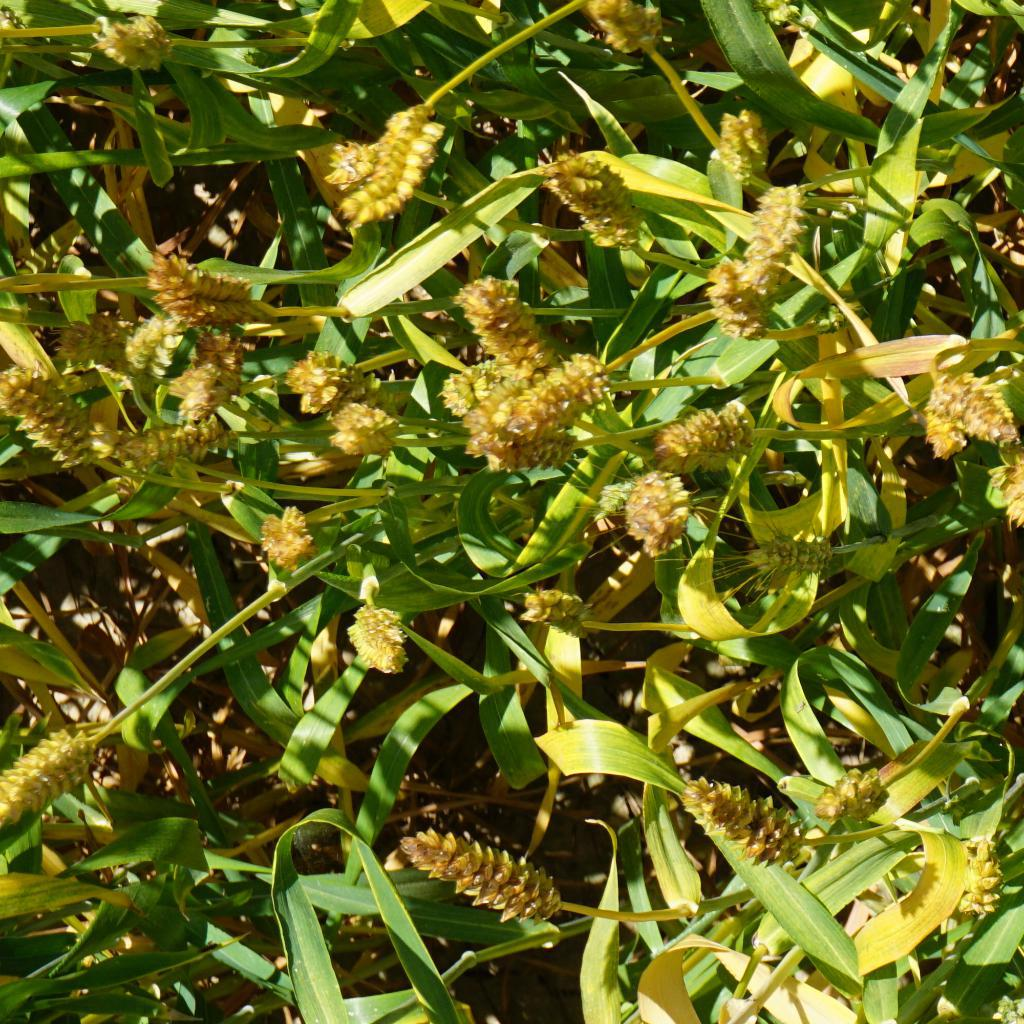0-0: (382, 825, 572, 926), (313, 110, 454, 212), (0, 726, 118, 833), (541, 146, 647, 257), (685, 777, 802, 858), (440, 269, 543, 358), (144, 251, 269, 323), (734, 181, 814, 290), (6, 370, 94, 463), (653, 390, 754, 463), (338, 599, 424, 678), (570, 0, 676, 63), (107, 409, 214, 466), (91, 10, 182, 76), (513, 356, 603, 421), (246, 502, 325, 575), (626, 463, 689, 553), (950, 831, 1016, 916), (319, 398, 404, 462), (280, 346, 367, 408), (713, 108, 777, 192), (916, 369, 973, 463), (517, 575, 598, 640), (747, 521, 835, 579), (435, 343, 516, 403), (471, 425, 572, 473), (114, 310, 185, 377), (710, 263, 769, 342), (809, 763, 892, 816), (948, 384, 1019, 444), (52, 310, 128, 364), (169, 361, 239, 418), (986, 442, 1024, 531), (590, 473, 638, 524), (322, 135, 369, 186), (753, 0, 811, 38), (185, 325, 256, 353), (812, 298, 852, 334)
